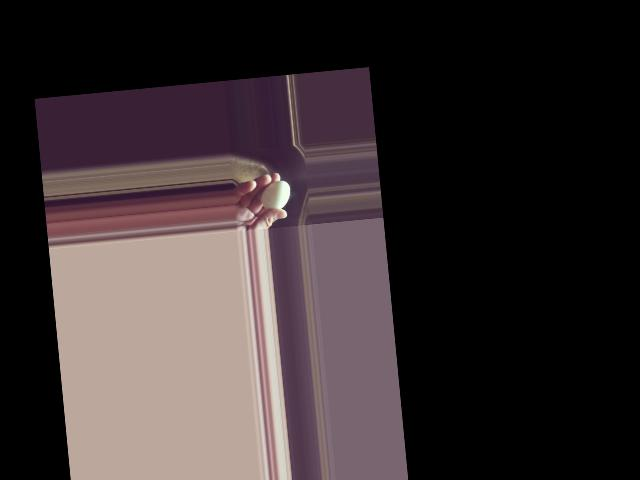egg: (259, 180, 291, 211)
